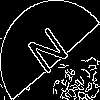N: (24, 25, 76, 84)
